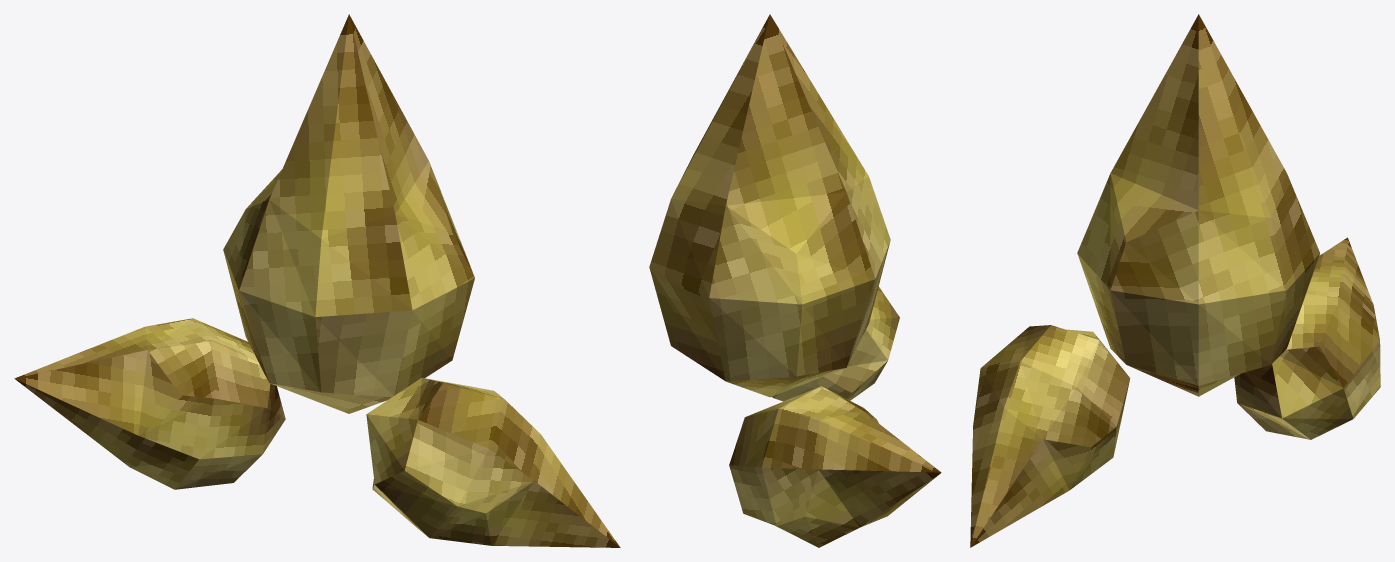
File: NASIONO18.glb
The picture shows the model from 3 angles, left to right: view 1: azimuth 30°, elevation 25°; view 2: azimuth 150°, elevation 25°; view 3: azimuth 270°, elevation 25°; orthographic projection. The views are drawn at different scales.
Parts seen in each view (by area): view 1: NASIONO18; view 2: NASIONO18; view 3: NASIONO18.
Boxes of the visible parts, x1=… form: NASIONO18: x1=14, y1=14, x2=620, y2=547; NASIONO18: x1=649, y1=14, x2=941, y2=547; NASIONO18: x1=970, y1=14, x2=1380, y2=547.
Bounding box in the file's own units: 0.0991 × 0.1119 × 0.0899.
Materials: 1 (1 with a texture image).
